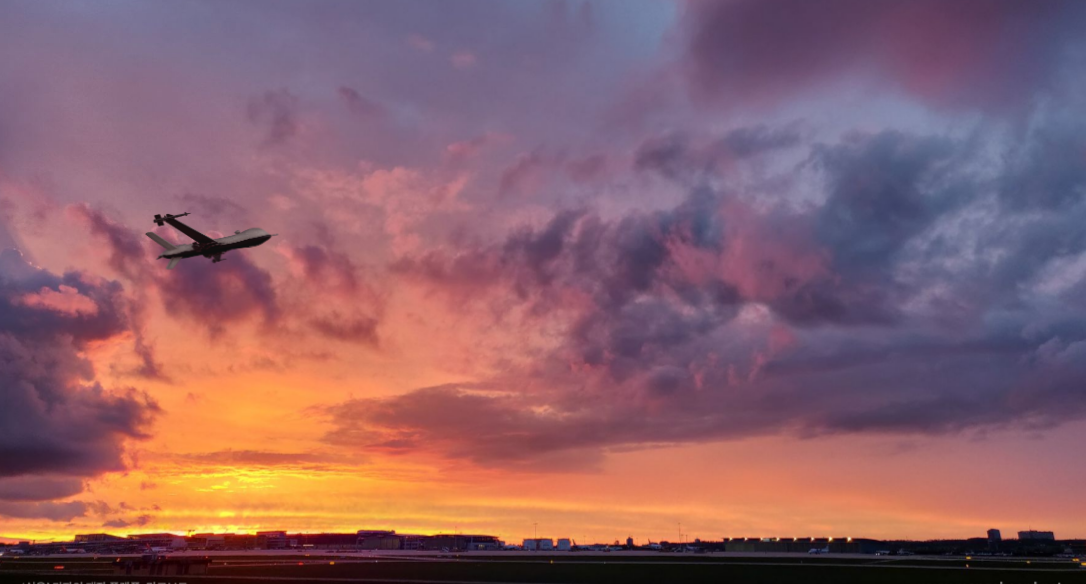military drone: (145, 211, 278, 268)
